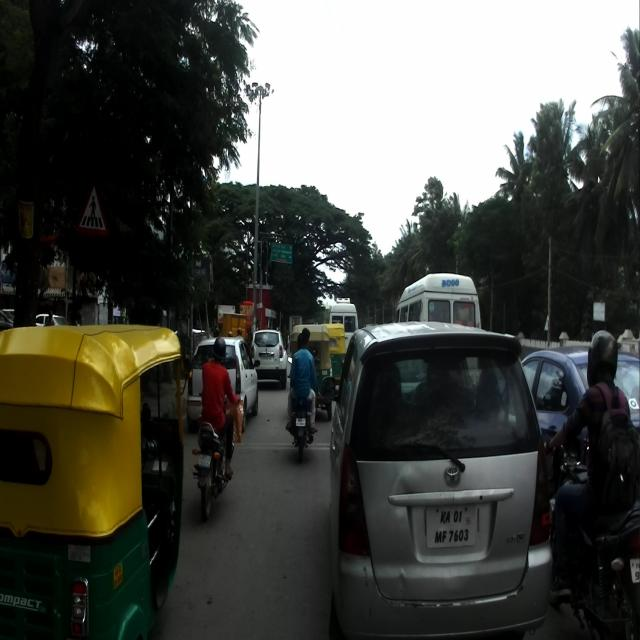autorickshaw: (0, 321, 190, 639)
car: (322, 322, 553, 638), (186, 335, 260, 434)
motorcycle: (286, 354, 316, 462)
